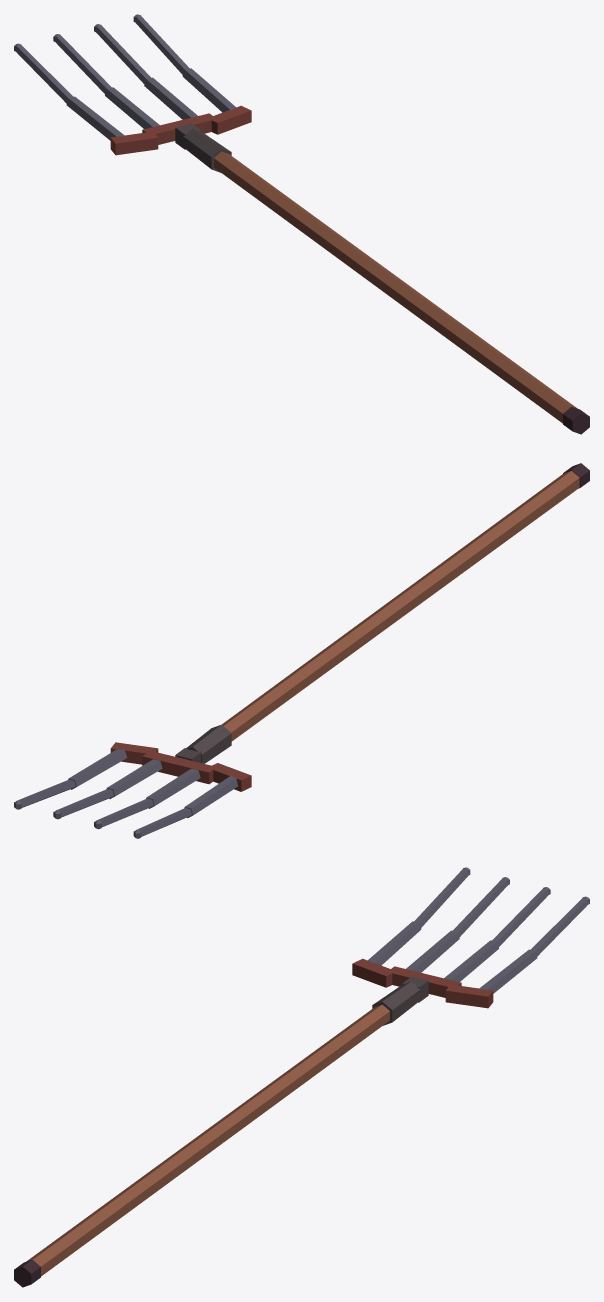
The model's file is furca.glb.
The picture shows the model from 3 angles, top to bottom: view 1: azimuth 30°, elevation 25°; view 2: azimuth 150°, elevation 25°; view 3: azimuth 330°, elevation 25°; orthographic projection.
Parts seen in each view (by area): view 1: Furca; view 2: Furca; view 3: Furca.
Boxes of the visible parts, x1,y1,x2,y2 form: Furca: [14, 14, 589, 434]; Furca: [14, 463, 589, 838]; Furca: [14, 867, 589, 1287].
Bounding box in the file's own units: 0.2434 × 0.067 × 1.57.
